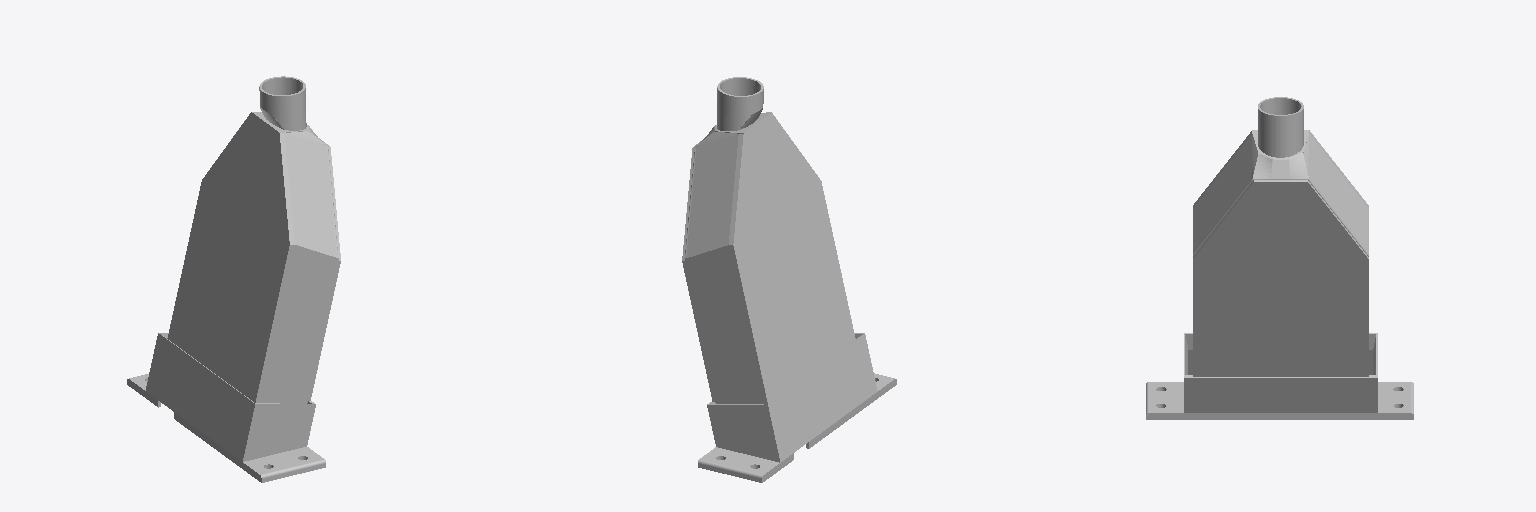
Rendered from Assembly3_0305.obj.
The picture shows the model from 3 angles: view 1: azimuth 30°, elevation 25°; view 2: azimuth 150°, elevation 25°; view 3: azimuth 270°, elevation 25°; orthographic projection.
Visible parts, largest first — view 1: Solid1, Solid2:1, Solid3, Solid1:1; view 2: Solid1, Solid2:1, Solid2, Solid1:1; view 3: Solid1, Solid2:1, Solid1:1, Solid2, Solid3.
Boxes of the visible parts, box(x1,y1,x2,y2) form: Solid1: box(167, 76, 340, 403); Solid2:1: box(146, 333, 315, 461); Solid3: box(284, 133, 336, 257); Solid1:1: box(127, 374, 325, 482); Solid1: box(682, 77, 855, 403); Solid2:1: box(707, 333, 877, 462); Solid2: box(686, 134, 738, 257); Solid1:1: box(698, 373, 896, 482); Solid1: box(1193, 97, 1368, 376); Solid2:1: box(1184, 333, 1377, 412); Solid1:1: box(1146, 382, 1413, 419); Solid2: box(1309, 134, 1368, 252); Solid3: box(1193, 135, 1251, 251).
Bounding box in the file's own units: 3.54 × 8.96 × 6.69.